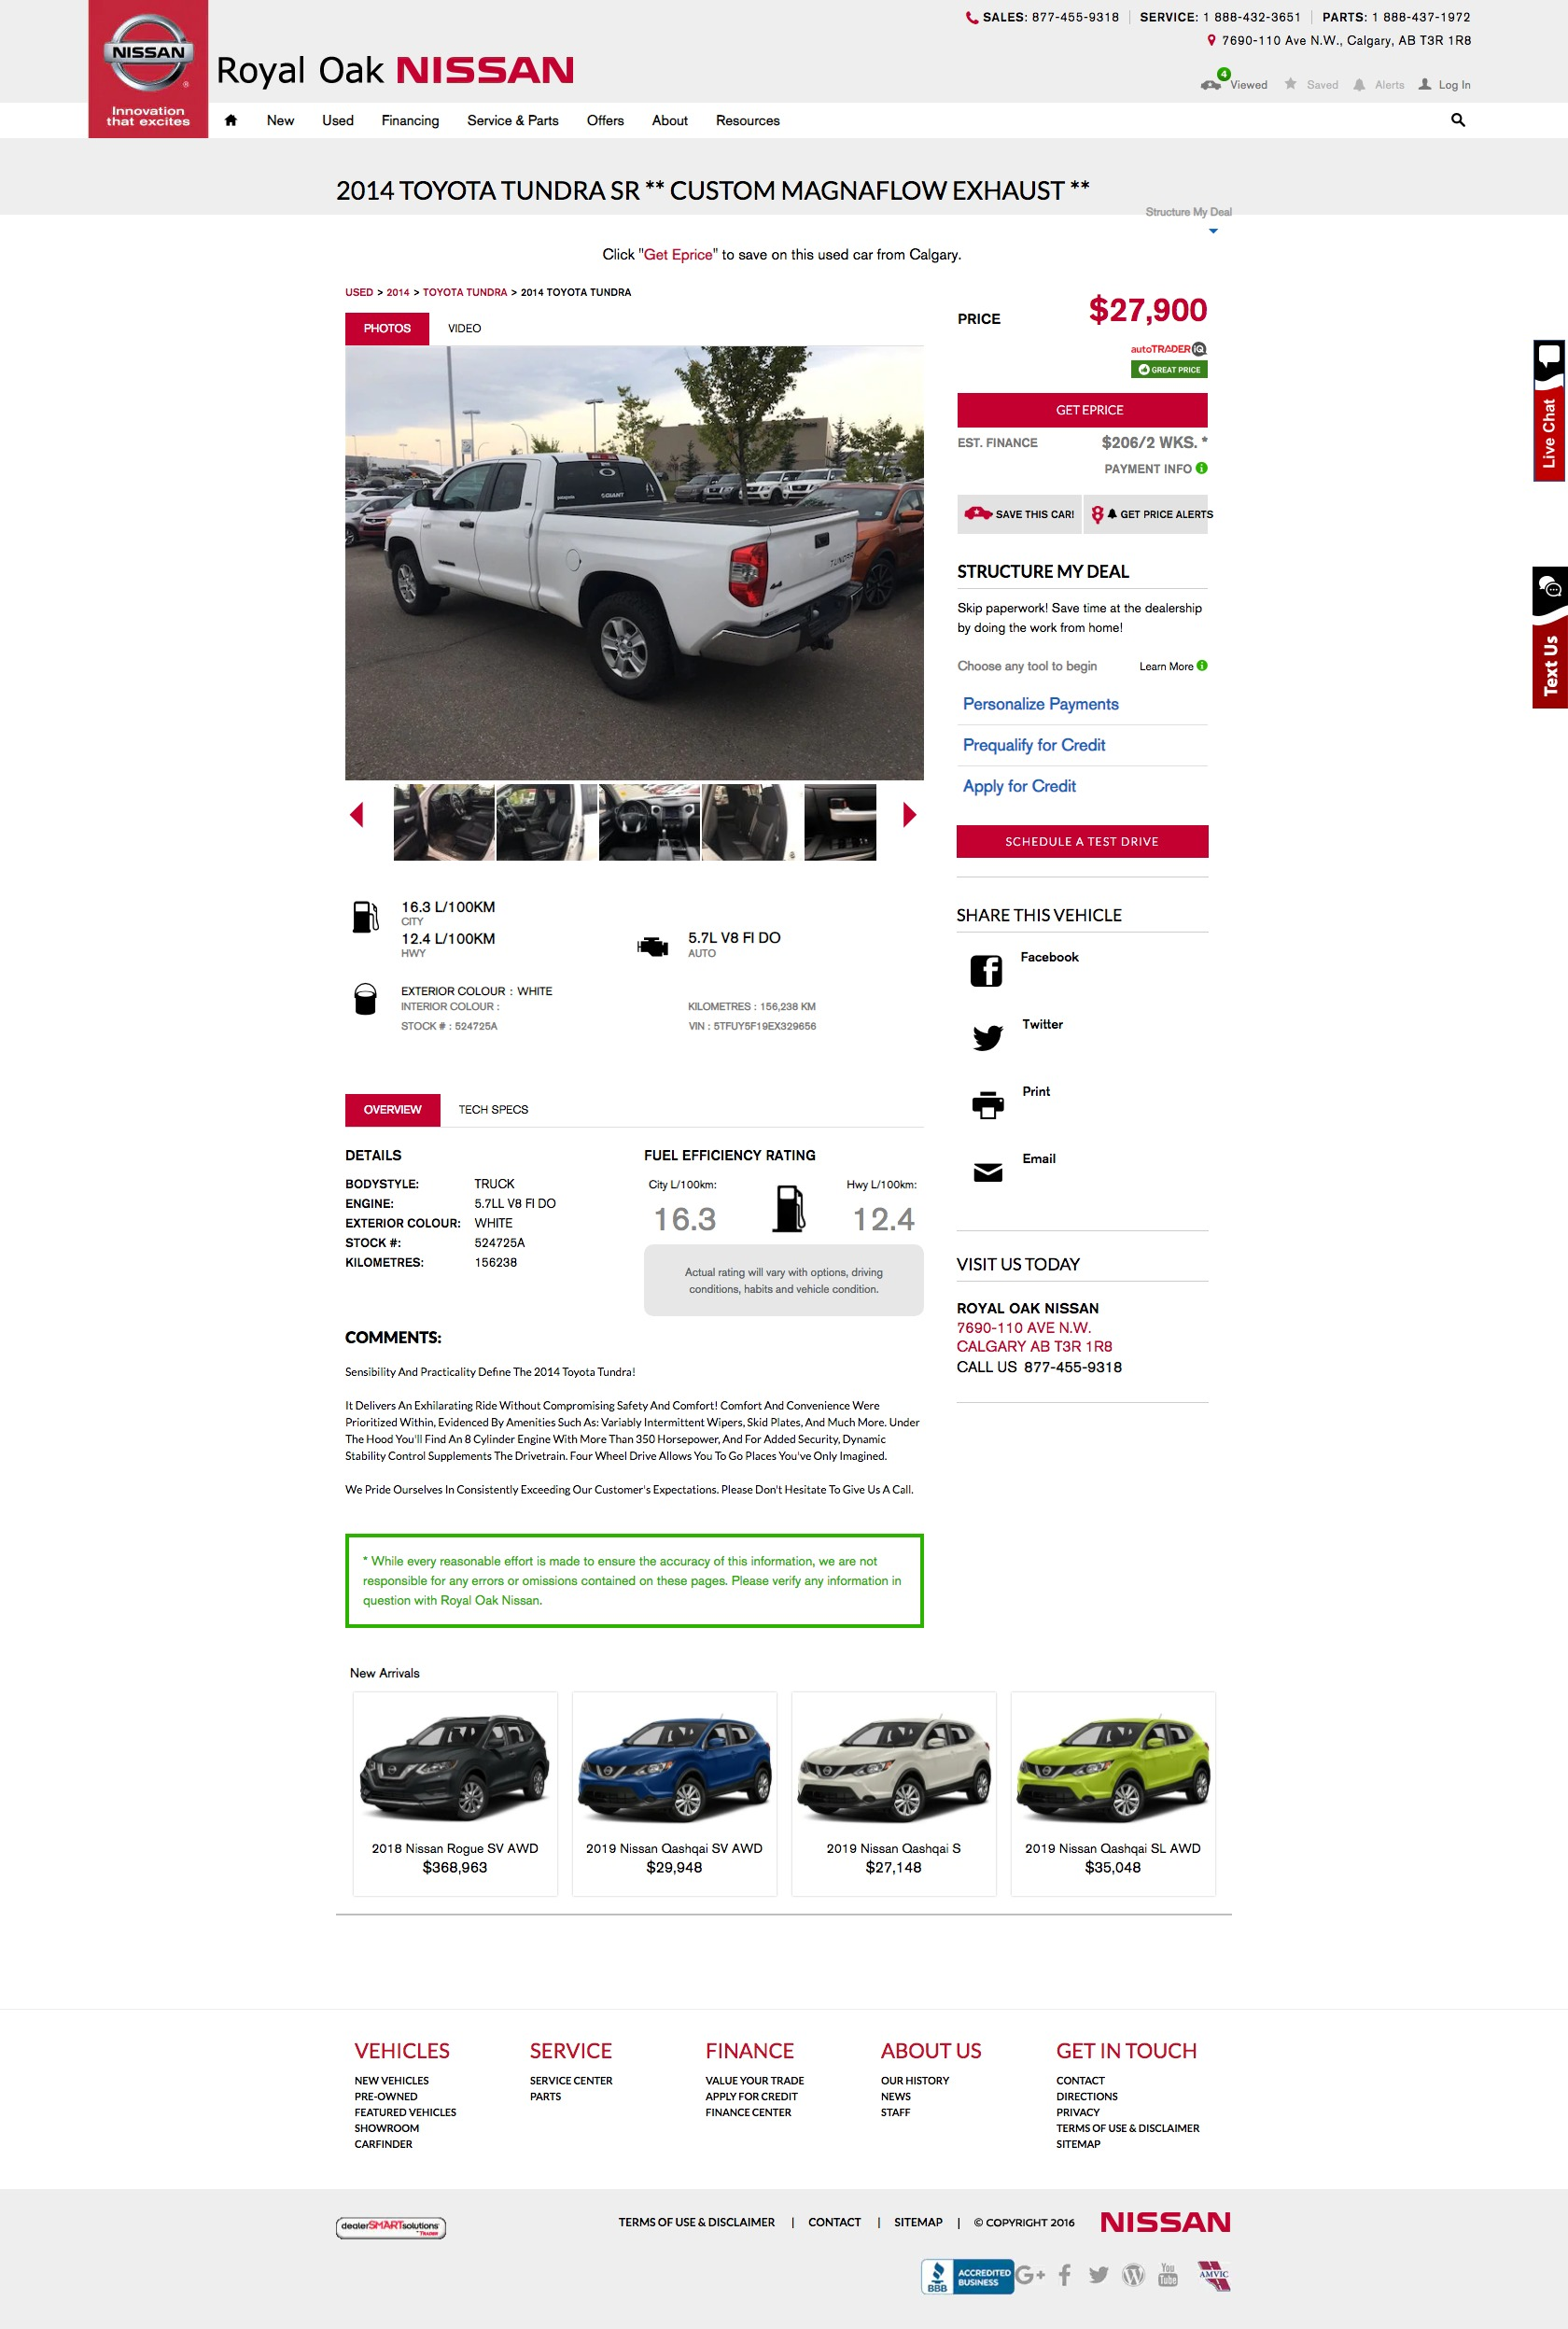car: (903, 801, 917, 829)
